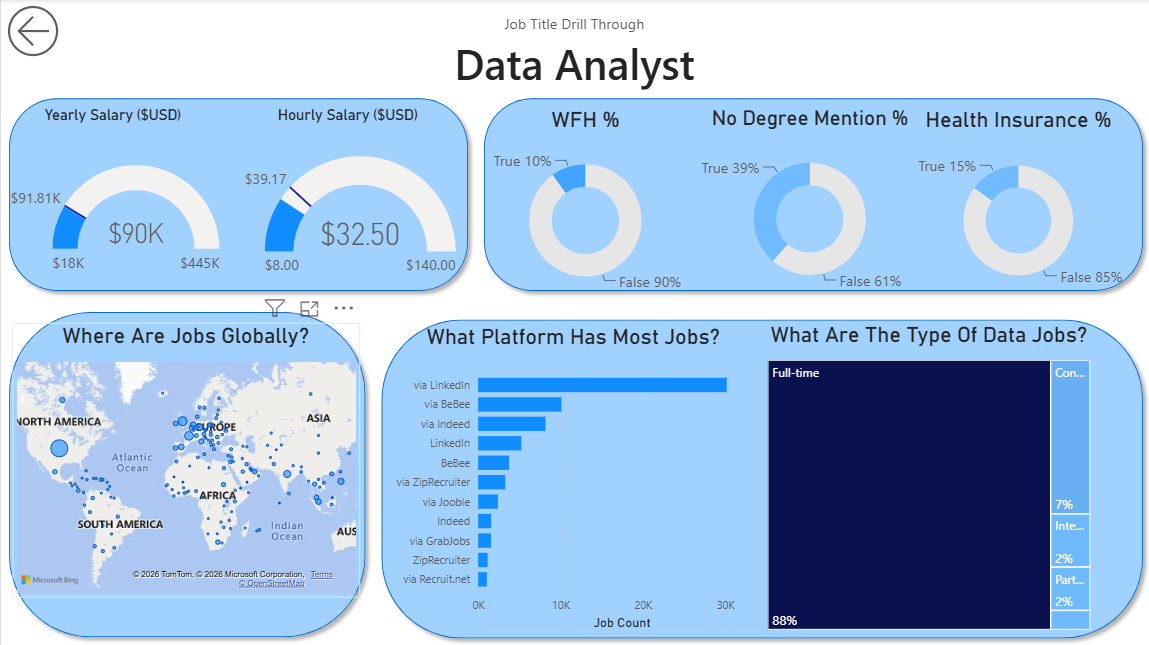

This screenshot's page, from the dashboard's own definition file:
{"tool":"powerbi","page":{"name":"Job Title Drill Through","canvas":[1280,720],"ordinal":1},"visuals":[{"type":"cardVisual","fields":{"Data":["Min(job_postings_flat.job_title_short)"]},"box":[387,0,503.6,118],"z":0},{"type":"actionButton","box":[0,0,142.7,71.4],"z":1000},{"type":"group","id":"g1","title":"Background","box":[0,101.6,1280,619.1],"z":1500},{"type":"gauge","title":"Yearly Salary ($USD)","fields":{"Y":["Median(job_postings_flat.salary_year_avg)"],"MinValue":["Min(job_postings_flat.salary_year_avg)1"],"MaxValue":["Max(job_postings_flat.salary_year_avg)2"],"TargetValue":["Avg(job_postings_flat.salary_year_avg)3"]},"box":[0,118,248.4,227.8],"z":2000},{"type":"gauge","title":"Hourly Salary ($USD)","fields":{"Y":["Median(job_postings_flat.salary_hour_avg)"],"MinValue":["Min(job_postings_flat.salary_hour_avg)1"],"MaxValue":["Max(job_postings_flat.salary_hour_avg)2"],"TargetValue":["Avg(job_postings_flat.salary_hour_avg)3"]},"box":[260.7,118,251.1,220.9],"z":3000},{"type":"donutChart","title":"WFH %","fields":{"Category":["job_postings_flat.job_work_from_home"],"Y":["CountNonNull(job_postings_flat.job_work_from_home)"]},"box":[514.6,119.4,271.7,215.4],"z":4000},{"type":"donutChart","title":"No Degree Mention %","fields":{"Category":["job_postings_flat.job_no_degree_mention"],"Y":["CountNonNull(job_postings_flat.job_work_from_home)"]},"box":[768.4,118,264.8,215.4],"z":5000},{"type":"donutChart","title":"Health Insurance %","fields":{"Category":["job_postings_flat.job_health_insurance"],"Y":["CountNonNull(job_postings_flat.job_work_from_home)"]},"box":[1010.1,119.7,244.9,215.7],"z":6000},{"type":"map","title":"Where Are Jobs Globally?","fields":{"Category":["job_postings_flat.job_country"],"Size":["CountNonNull(job_postings_flat.job_title_short)"]},"box":[12.5,360.3,386.8,306.1],"z":7000},{"type":"barChart","title":"What Platform Has Most Jobs?","fields":{"Category":["job_postings_flat.job_via"],"Y":["CountNonNull(job_postings_flat.job_title_short)"]},"box":[399.3,361.7,475.8,345],"z":7500},{"type":"treemap","title":"What Are The Type Of Data Jobs?","fields":{"Group":["job_postings_flat.job_schedule_type"],"Values":["CountNonNull(job_postings_flat.job_schedule_type)"]},"box":[848.7,359,368.7,347.8],"z":8000},{"type":"shape","box":[0,101.6,528.7,232.3],"z":11000,"group":"g1"},{"type":"shape","box":[414.6,347.9,865.4,372.9],"z":13000,"group":"g1"},{"type":"shape","box":[0,339.5,414.6,379.8],"z":14000,"group":"g1"},{"type":"shape","box":[528.7,101.6,751.3,232.3],"z":15000,"group":"g1"}]}

Visuals, with their boxes in screenshot pixels (x1, y1, x2, y2), scaled from the page's 1280x720 canvas onto the 1149x645 screenshot:
cardVisual - Min(job_postings_flat.job_title_short): bbox=(347, 0, 799, 106)
actionButton: bbox=(0, 0, 128, 64)
"Background" group: bbox=(0, 91, 1148, 644)
"Yearly Salary ($USD)" gauge: bbox=(0, 106, 223, 310)
"Hourly Salary ($USD)" gauge: bbox=(234, 106, 459, 304)
"WFH %" donutChart: bbox=(462, 107, 706, 300)
"No Degree Mention %" donutChart: bbox=(690, 106, 927, 299)
"Health Insurance %" donutChart: bbox=(907, 107, 1127, 300)
"Where Are Jobs Globally?" map: bbox=(11, 323, 358, 597)
"What Platform Has Most Jobs?" barChart: bbox=(358, 324, 786, 633)
"What Are The Type Of Data Jobs?" treemap: bbox=(762, 322, 1093, 633)
shape: bbox=(0, 91, 475, 299)
shape: bbox=(372, 312, 1148, 644)
shape: bbox=(0, 304, 372, 644)
shape: bbox=(475, 91, 1148, 299)
